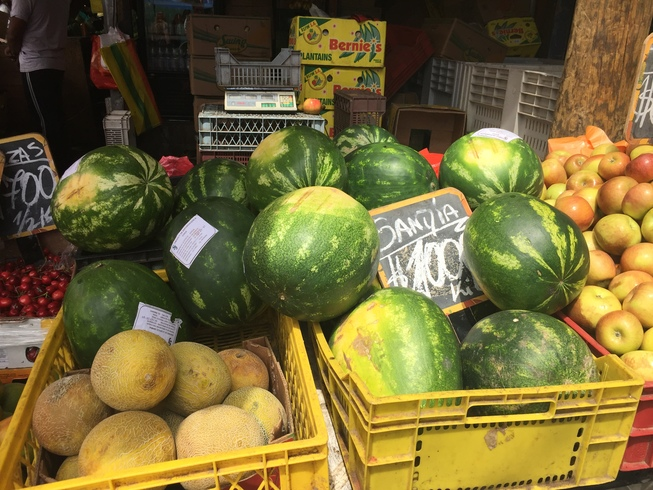precio: (348, 171, 507, 330)
